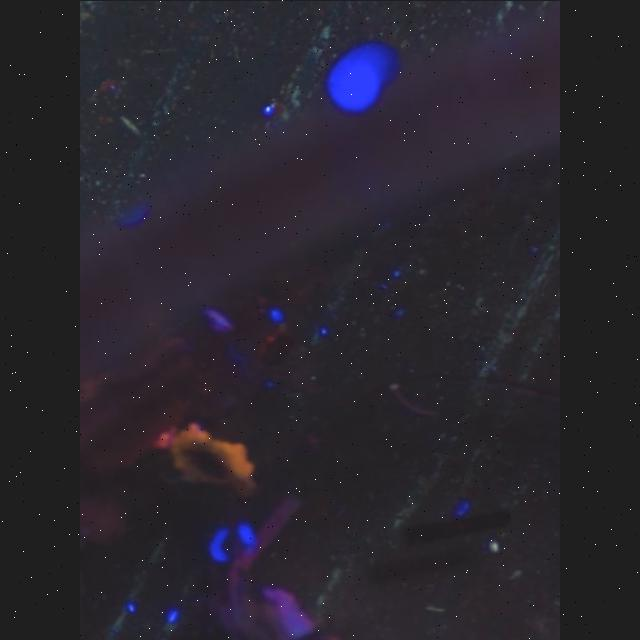microbeads: (488, 540, 502, 550)
